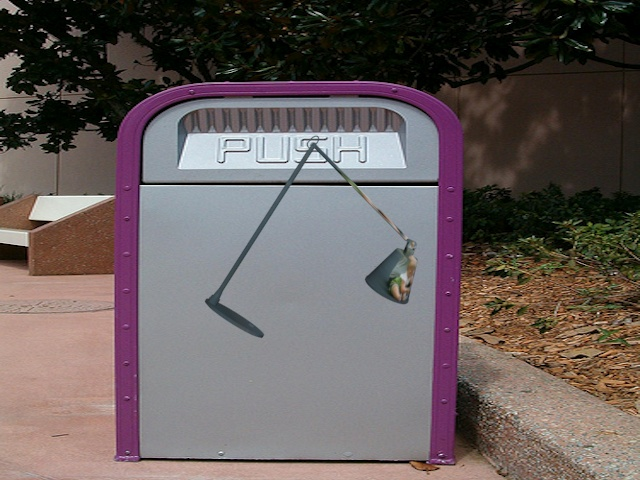desk_lamp: (193, 130, 424, 352)
